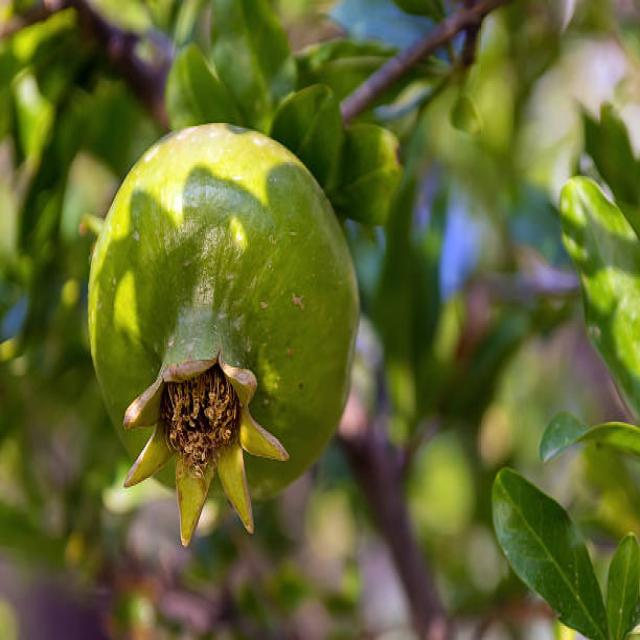Unripe: (89, 125, 361, 545)
